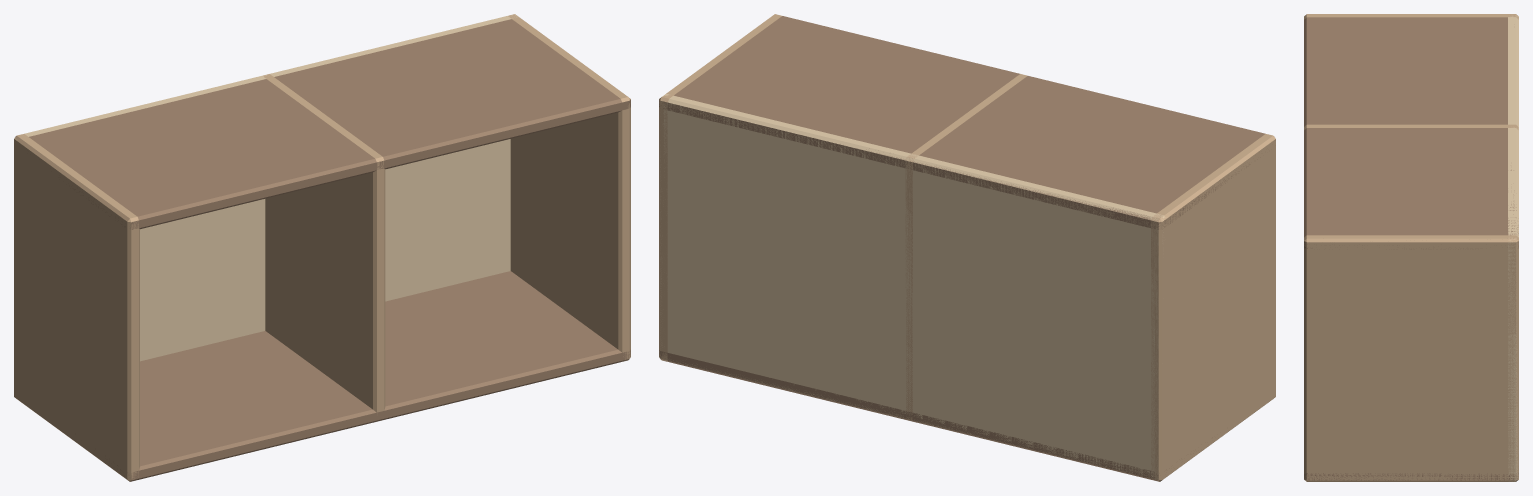
The picture shows the model from 3 angles, left to right: view 1: azimuth 30°, elevation 25°; view 2: azimuth 150°, elevation 25°; view 3: azimuth 270°, elevation 25°; orthographic projection. The views are drawn at different scales.
Parts seen in each view (by area): view 1: SpaceSaver_WallSys_Cube_2x1; view 2: SpaceSaver_WallSys_Cube_2x1; view 3: SpaceSaver_WallSys_Cube_2x1.
Boxes of the visible parts, x1,y1,x2,y2 form: SpaceSaver_WallSys_Cube_2x1: (14, 14, 630, 481); SpaceSaver_WallSys_Cube_2x1: (659, 14, 1275, 481); SpaceSaver_WallSys_Cube_2x1: (1304, 14, 1518, 481).
Bounding box in the file's own units: 0.8 × 0.4 × 0.32.
